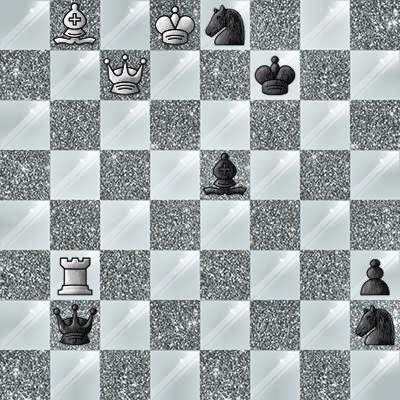black-bishop: (200, 150, 250, 200)
black-king: (250, 50, 300, 100)
black-knight: (200, 0, 250, 50), (350, 300, 400, 350)
black-pawn: (350, 250, 400, 300)
black-queen: (50, 300, 100, 350)
white-bishop: (50, 0, 100, 50)
white-king: (150, 0, 200, 50)
white-queen: (100, 50, 150, 100)
white-rook: (50, 250, 100, 300)
